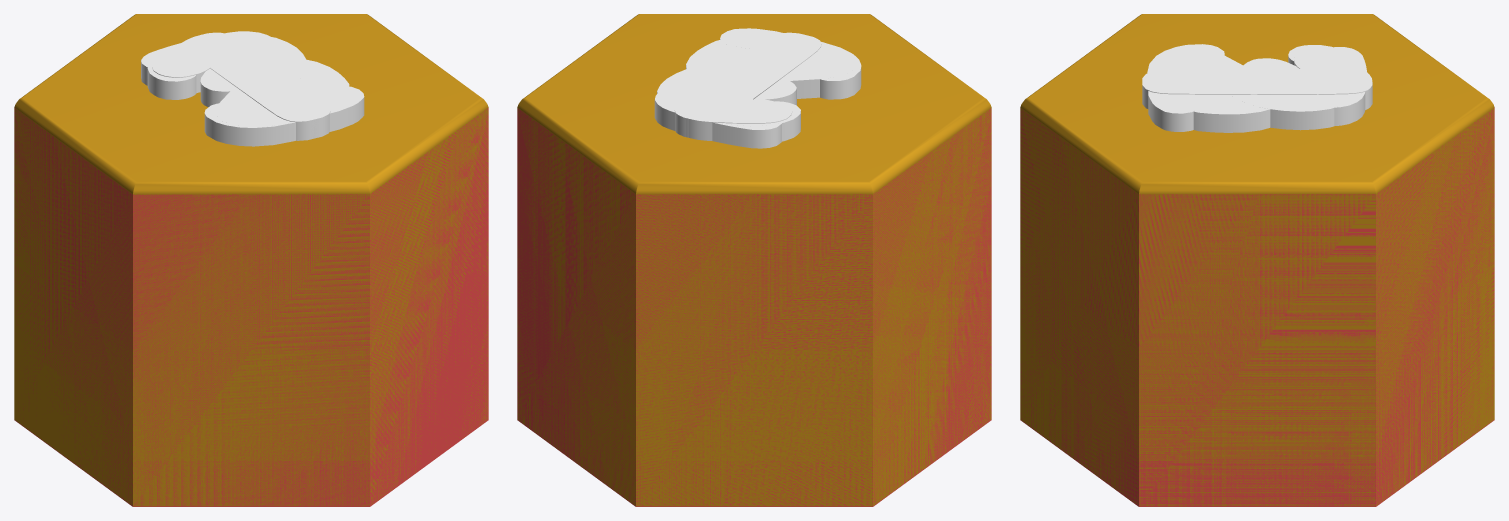
Rendered from basic_level_assets.fbx.
3 renders of one model, left to right at view 1: azimuth 30°, elevation 25°; view 2: azimuth 150°, elevation 25°; view 3: azimuth 270°, elevation 25°, orthographic.
Visible parts, largest first — view 1: yellow3, red2, red1, green1, green2, yellow2, yellow1; view 2: yellow3, red2, red1, green1, yellow1, green2, yellow2; view 3: yellow3, red2, red1, green2, green1, yellow2, yellow1.
Part boxes in pixels (left/top/right/bottom): yellow3: left=14, top=14, right=488, bottom=506; red2: left=14, top=33, right=488, bottom=506; red1: left=14, top=32, right=488, bottom=506; green1: left=152, top=34, right=325, bottom=140; green2: left=147, top=34, right=362, bottom=126; yellow2: left=254, top=38, right=363, bottom=131; yellow1: left=156, top=33, right=328, bottom=139; yellow3: left=517, top=14, right=991, bottom=506; red2: left=517, top=28, right=991, bottom=506; red1: left=517, top=32, right=991, bottom=506; green1: left=682, top=34, right=821, bottom=140; yellow1: left=678, top=33, right=815, bottom=137; green2: left=657, top=28, right=857, bottom=141; yellow2: left=657, top=29, right=763, bottom=92; yellow3: left=1020, top=14, right=1494, bottom=506; red2: left=1020, top=45, right=1494, bottom=506; red1: left=1020, top=49, right=1494, bottom=506; green2: left=1151, top=45, right=1365, bottom=127; green1: left=1142, top=47, right=1372, bottom=91; yellow2: left=1152, top=94, right=1329, bottom=130; yellow1: left=1142, top=48, right=1372, bottom=92.
Size of the model in its own units: 3.66 by 3.36 by 4.23.
